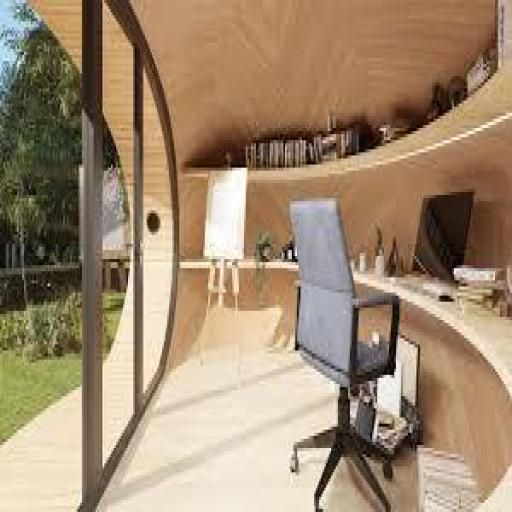chair: (286, 192, 404, 512)
